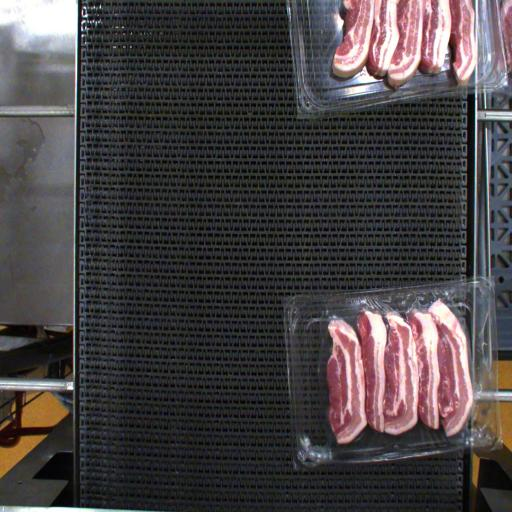unsealed: (313, 281, 495, 450)
